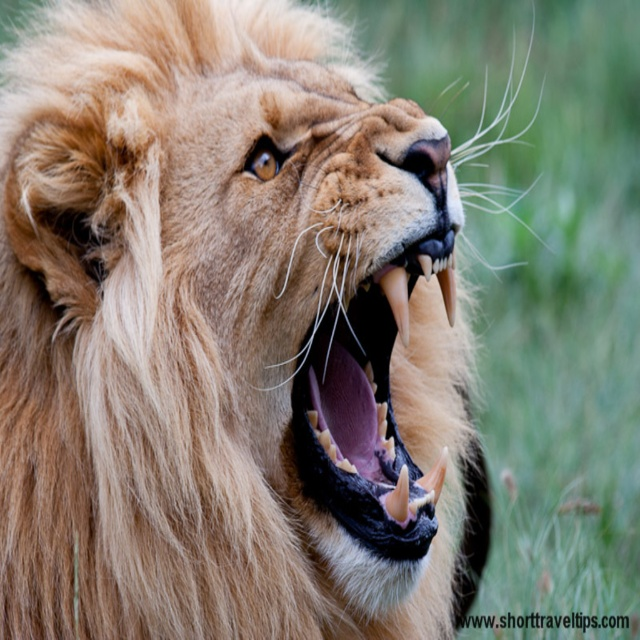Lion: (0, 0, 556, 640)
